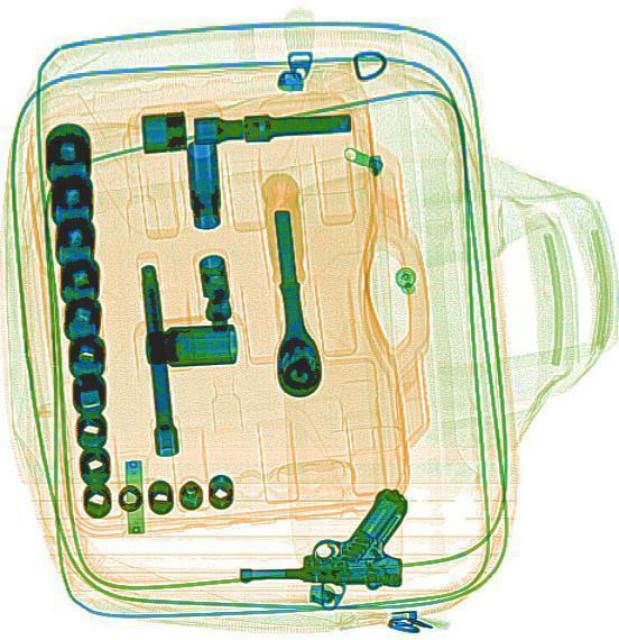Gun: (236, 487, 405, 587)
